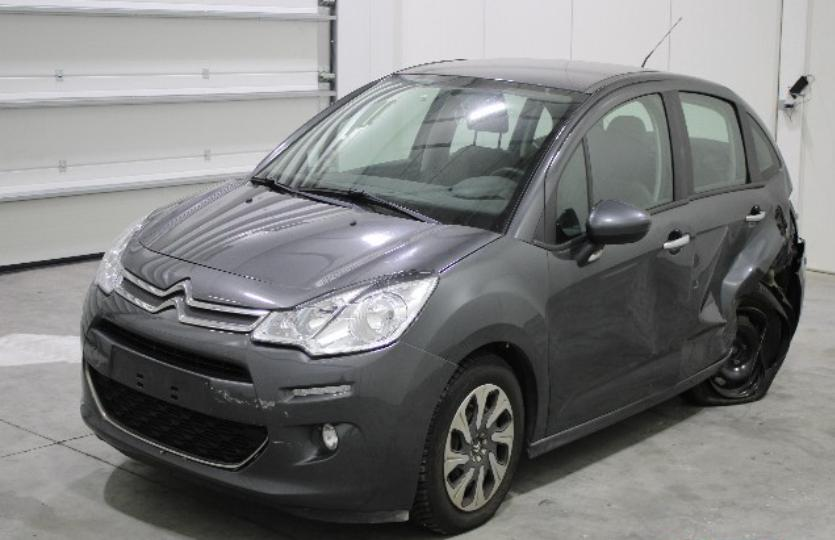Back-bumper: (795, 239, 807, 323)
Back-door: (666, 80, 785, 381)
Back-wheel: (681, 285, 788, 406)
Back-window: (678, 91, 750, 197), (746, 114, 780, 180)
Fender: (398, 234, 551, 443)
Front-bumper: (80, 283, 457, 522)
Front-door: (544, 81, 694, 436)
Front-wheel: (414, 353, 526, 534)
Front-window: (590, 92, 677, 210), (557, 145, 588, 243)
Grille: (85, 317, 271, 470)
Headlight: (248, 272, 438, 358), (92, 217, 141, 294)
Hood: (124, 177, 500, 310)
License-plate: (108, 346, 208, 417)
Mirror: (569, 199, 652, 265)
Quarter-panel: (763, 164, 800, 280)
Rocker-panel: (527, 350, 731, 460)
Roof: (395, 55, 715, 93)
Windshield: (249, 73, 590, 233)
